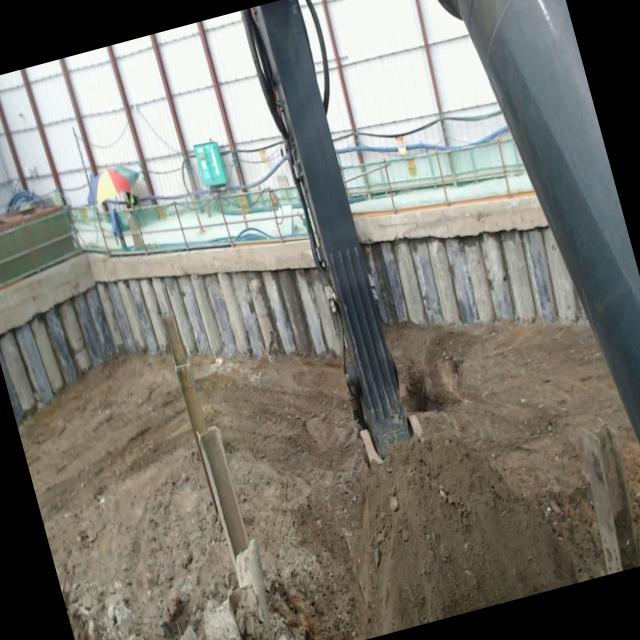red-sand: (384, 321, 640, 582), (19, 356, 233, 636), (352, 435, 578, 638), (196, 360, 358, 640)
